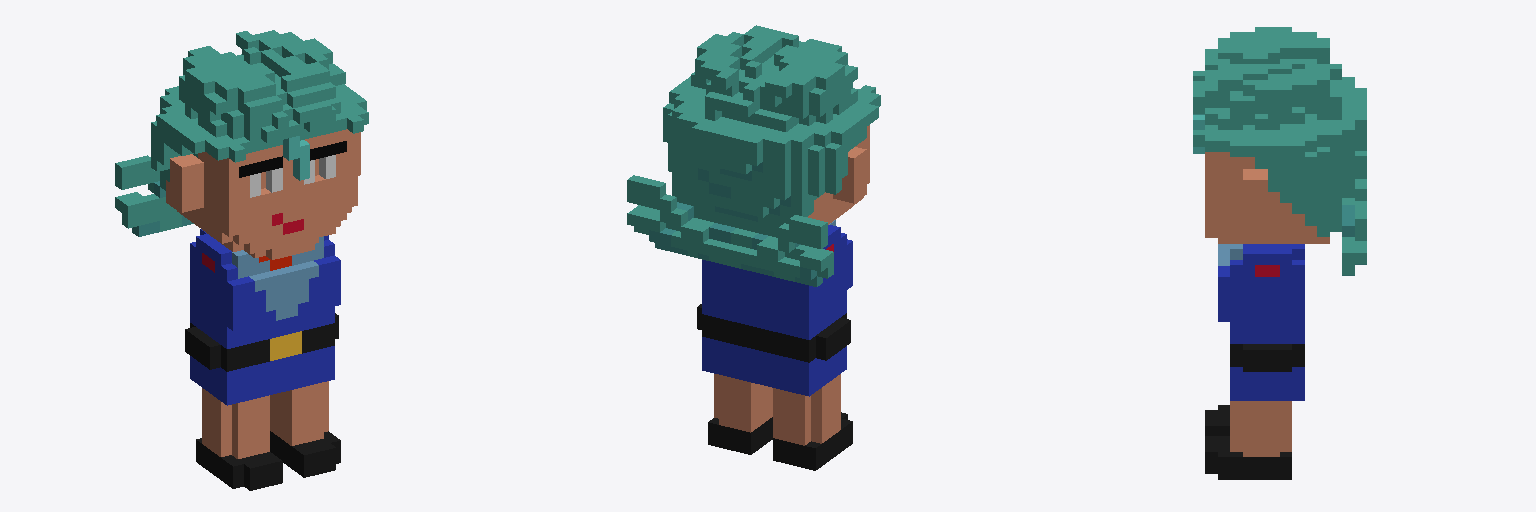
3 views of the same model, side by side, from view 1: azimuth 30°, elevation 25°; view 2: azimuth 150°, elevation 25°; view 3: azimuth 270°, elevation 25° (orthographic).
Parts seen in each view (by area): view 1: object 1; view 2: object 1; view 3: object 1.
Boxes of the visible parts, x1,y1,x2,y2 form: object 1: [115, 30, 368, 490]; object 1: [627, 25, 880, 470]; object 1: [1193, 27, 1366, 479].
Size of the model in its own units: 1.8 by 3.5 by 1.4.
Materials: 1 (1 with a texture image).